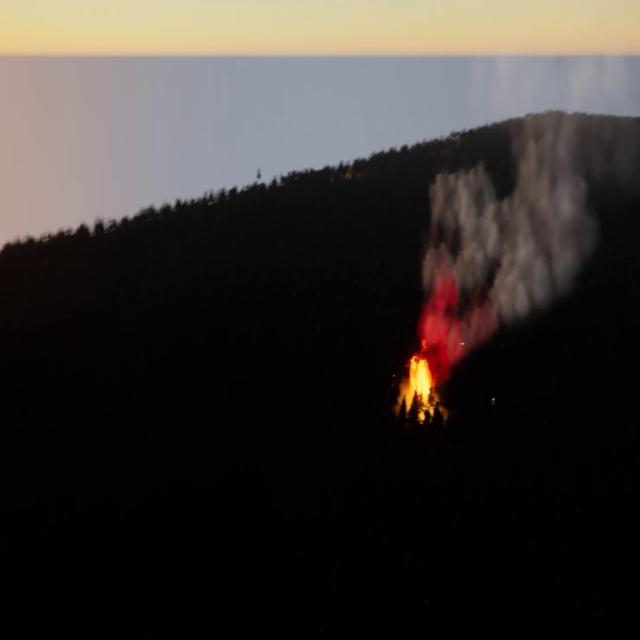fire: (398, 354, 442, 414)
smoke: (420, 56, 634, 377)
